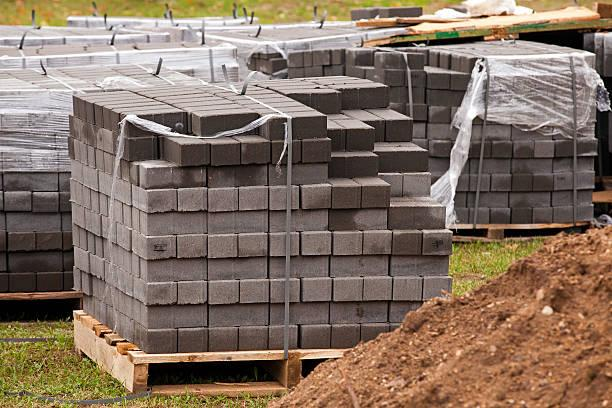Bricks: (313, 78, 386, 112), (137, 254, 204, 285), (193, 108, 259, 139), (141, 298, 204, 329), (390, 197, 447, 230), (360, 107, 414, 141), (286, 47, 343, 79), (136, 108, 191, 141), (137, 161, 198, 190), (207, 208, 272, 234), (374, 142, 428, 173), (327, 115, 374, 150), (212, 300, 275, 326), (208, 163, 271, 189), (329, 206, 387, 234), (140, 211, 207, 235), (329, 299, 387, 326), (1, 170, 66, 194), (332, 251, 387, 279), (3, 211, 65, 235), (163, 134, 208, 167), (210, 254, 268, 279), (382, 170, 433, 197), (392, 253, 449, 277), (330, 150, 378, 178), (290, 298, 343, 323), (132, 185, 177, 214), (6, 253, 63, 275), (135, 233, 181, 260), (289, 112, 329, 140), (104, 260, 133, 297), (133, 279, 174, 305), (123, 131, 157, 162), (238, 278, 274, 307), (329, 179, 363, 209), (290, 207, 329, 233), (290, 161, 329, 187), (294, 255, 332, 281), (299, 181, 334, 209), (100, 172, 131, 203), (207, 278, 241, 306), (207, 185, 241, 213), (425, 68, 467, 90), (176, 233, 210, 260), (175, 279, 209, 306), (144, 328, 180, 353), (238, 184, 270, 212), (332, 230, 365, 257), (177, 185, 210, 212), (362, 228, 395, 255), (300, 136, 333, 163), (421, 229, 454, 256), (300, 229, 332, 256), (301, 276, 333, 303), (362, 275, 394, 302), (391, 229, 423, 256), (299, 323, 332, 349), (250, 53, 286, 76), (509, 191, 548, 212), (468, 140, 514, 157), (515, 158, 553, 178), (470, 123, 512, 141), (31, 190, 63, 213), (381, 53, 424, 70), (238, 232, 268, 256), (345, 47, 376, 70), (427, 89, 466, 107), (2, 190, 33, 212), (428, 159, 470, 175), (207, 235, 237, 257), (6, 231, 37, 252), (34, 230, 65, 251), (471, 158, 511, 174), (36, 272, 67, 292), (302, 326, 331, 347), (468, 193, 511, 207), (269, 256, 296, 278), (210, 329, 238, 350), (8, 272, 37, 292), (271, 236, 300, 256), (272, 188, 300, 208), (239, 329, 268, 348), (210, 144, 239, 163), (393, 279, 422, 298), (382, 6, 422, 19), (425, 278, 451, 298), (333, 327, 360, 346), (269, 328, 297, 346), (268, 116, 288, 140), (101, 214, 117, 244), (119, 315, 135, 345), (427, 124, 457, 140), (182, 332, 207, 351), (533, 139, 557, 158), (116, 224, 132, 252), (103, 307, 120, 333), (75, 245, 90, 273), (70, 179, 86, 204), (122, 112, 139, 135), (490, 172, 511, 190), (362, 325, 387, 340), (86, 210, 101, 235), (118, 293, 133, 318), (447, 208, 470, 224), (72, 201, 86, 227), (384, 71, 408, 86), (85, 165, 99, 190), (90, 256, 104, 281), (555, 173, 575, 190), (512, 207, 532, 224), (272, 165, 288, 186), (555, 205, 576, 221), (554, 159, 577, 173), (490, 207, 510, 223), (119, 249, 132, 273), (133, 324, 145, 350), (552, 191, 574, 205), (534, 208, 553, 224), (470, 208, 491, 222), (99, 283, 111, 307), (79, 315, 97, 331), (558, 140, 576, 156), (274, 211, 287, 233), (133, 297, 143, 325), (429, 109, 450, 122), (274, 107, 317, 113), (73, 160, 84, 183), (131, 207, 142, 229), (123, 203, 133, 227), (83, 294, 95, 314), (89, 192, 100, 213), (93, 238, 104, 259), (70, 116, 80, 139), (113, 200, 123, 223), (409, 71, 425, 85), (86, 234, 96, 256), (109, 286, 119, 308), (99, 191, 108, 215), (113, 134, 123, 155), (109, 246, 119, 267), (111, 111, 120, 133), (122, 160, 131, 182), (73, 140, 82, 161), (79, 229, 88, 250), (92, 277, 100, 300), (100, 305, 109, 325), (88, 124, 96, 146), (103, 129, 111, 151), (107, 198, 115, 220), (72, 224, 80, 246), (82, 274, 90, 296), (97, 149, 104, 173), (112, 157, 120, 177), (84, 188, 91, 210), (75, 268, 82, 290), (80, 144, 88, 163), (92, 301, 100, 320), (72, 96, 79, 117), (89, 147, 96, 168), (104, 242, 111, 263), (87, 102, 94, 122), (80, 122, 87, 142), (96, 105, 102, 128), (104, 107, 110, 130), (80, 99, 86, 121), (97, 128, 103, 150), (106, 153, 112, 175)
